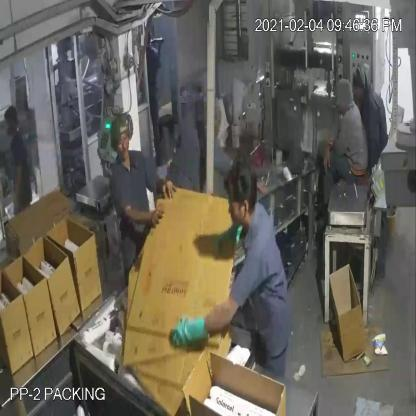glove: (165, 291, 229, 356)
no_glove: (119, 194, 170, 242)
